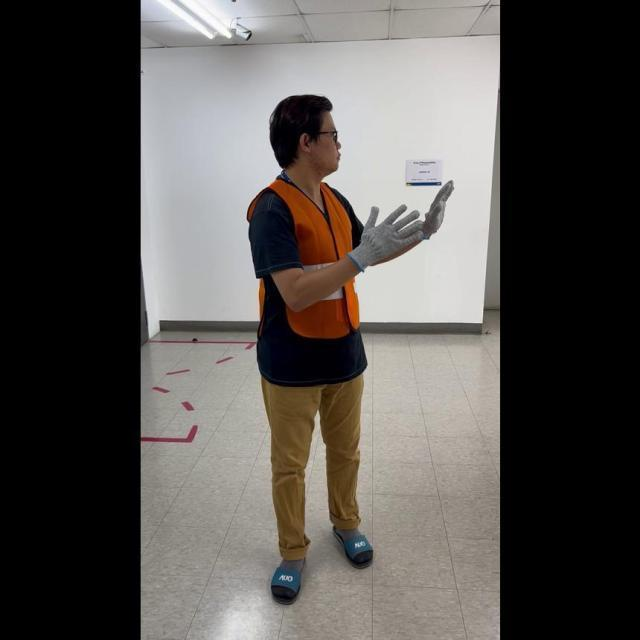gloved_hand: (345, 196, 424, 269), (417, 174, 454, 238)
